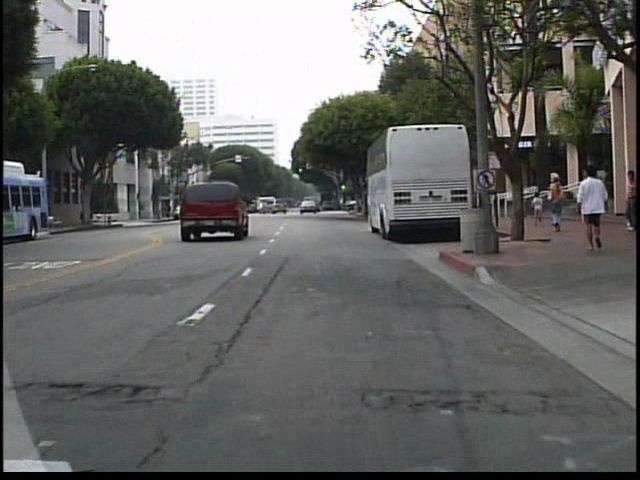person: (575, 165, 611, 254), (547, 173, 568, 236), (530, 191, 546, 228)
